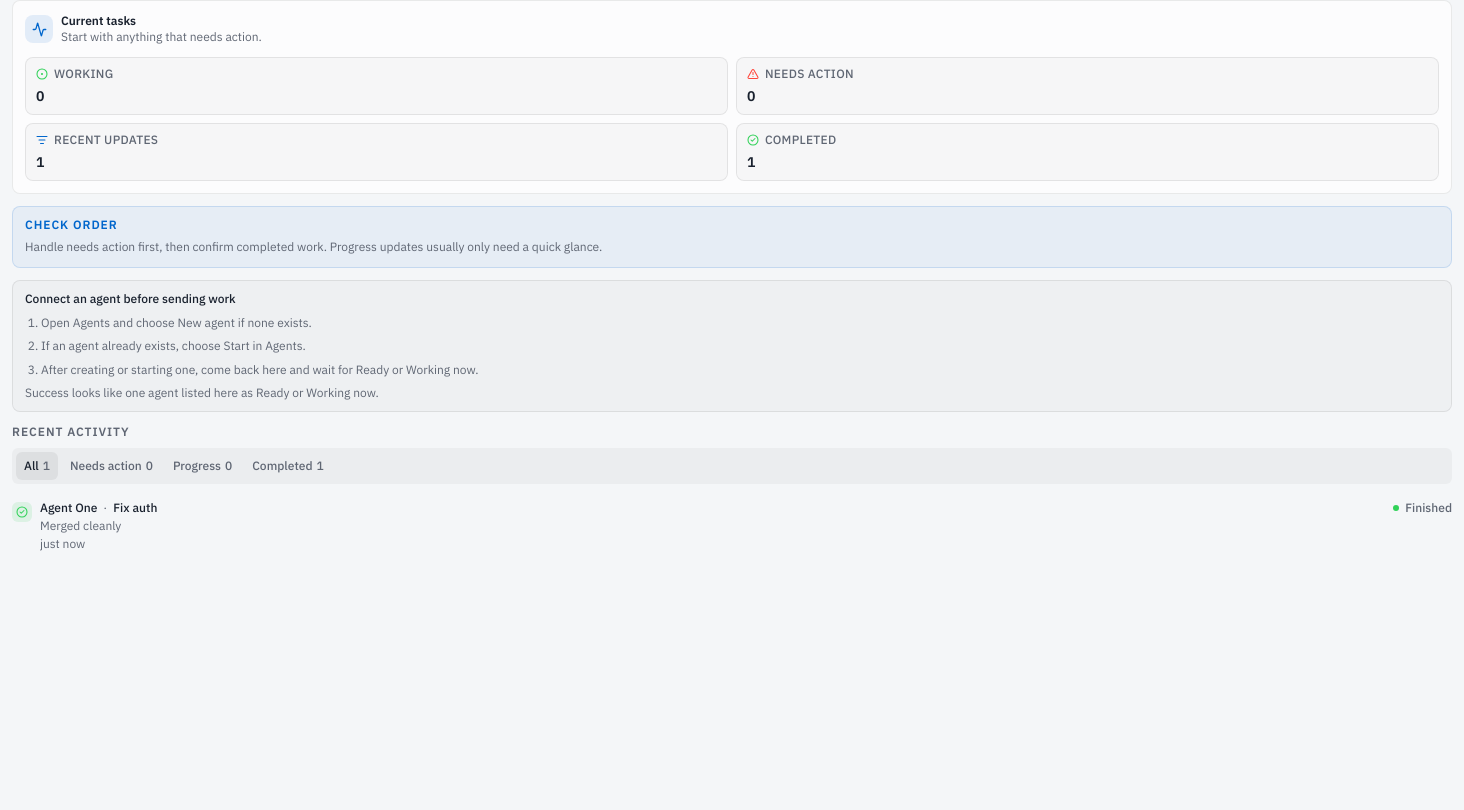
Test: ActivityFeed › explains when the progress filter is hiding finished work
Click the button with aria-label "show updates for work in progress, 0 matching updates".
click(203, 466)  # box [165,452,240,480]
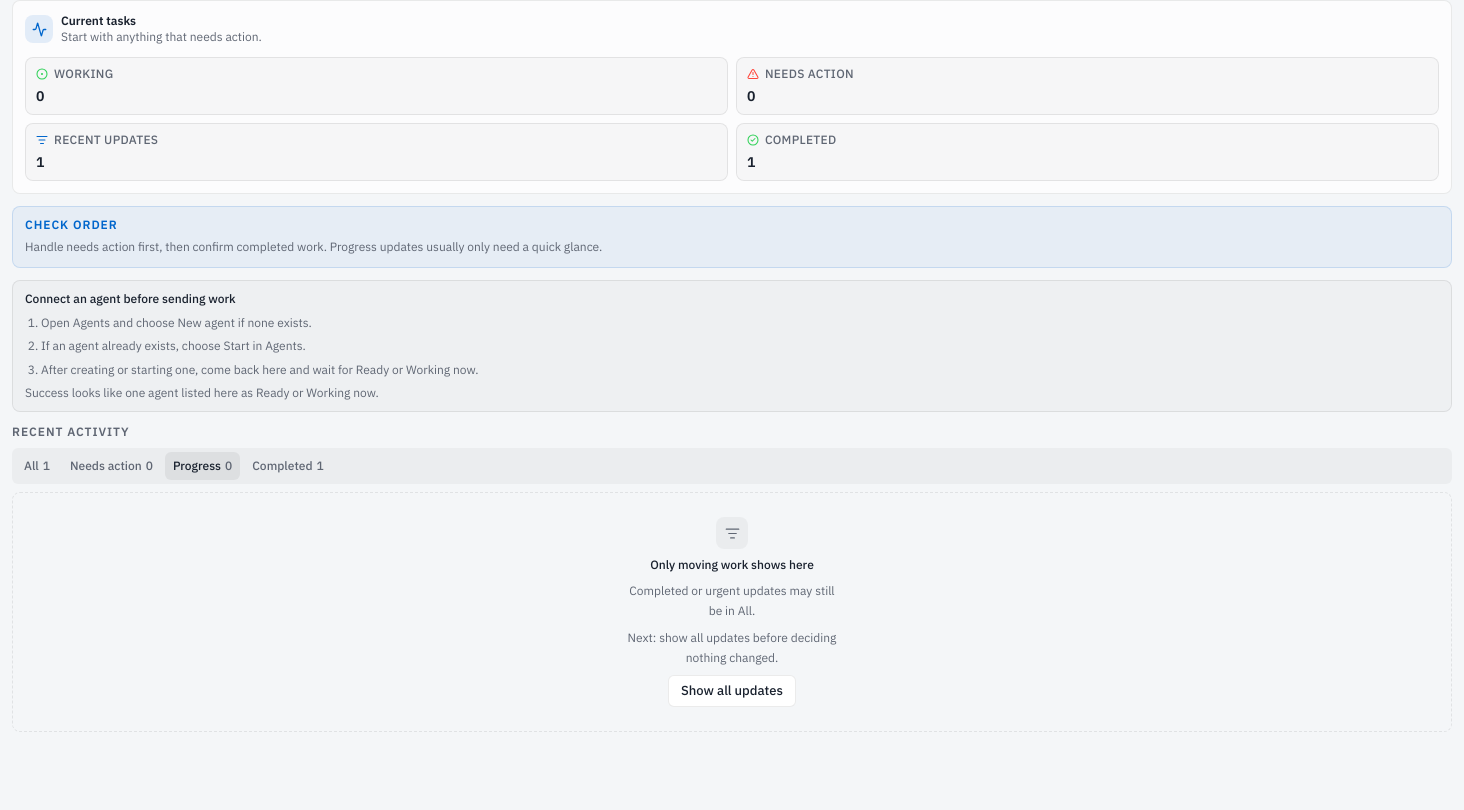
Now the text "Only moving work shows here" is shown, box [650,557,814,573]
Now the text "Completed or urgent updates may still be in All." is shown, box [622,581,842,620]
Now the text "Next: show all updates before deciding nothing changed." is shown, box [622,628,842,667]
